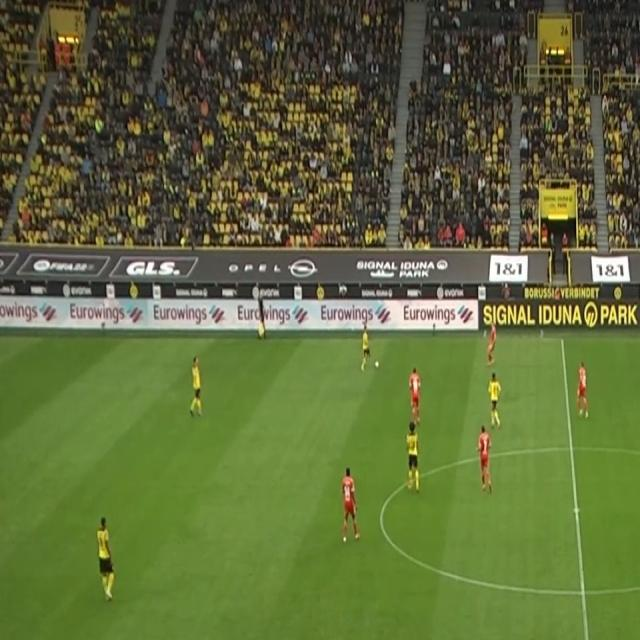ball: (374, 359, 380, 370)
